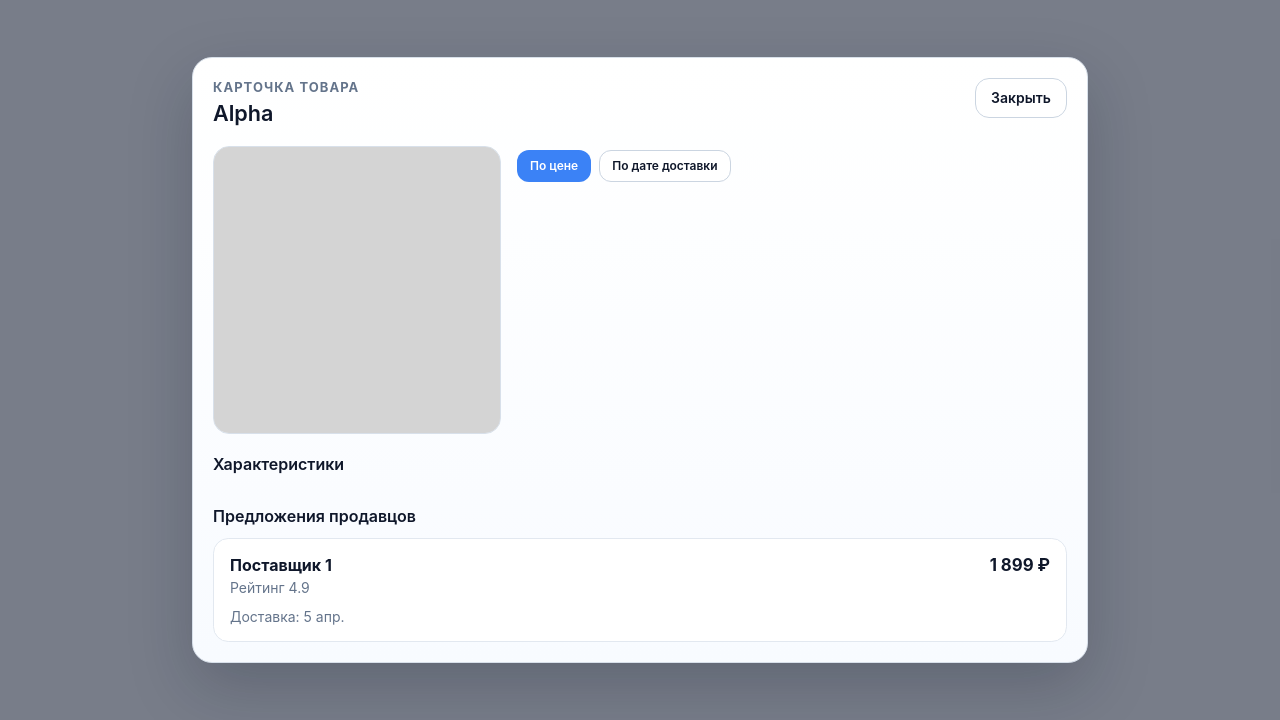
Test case: ProductModal › re-fetches on sort changes
The width and height of the screenshot is (1280, 720).
Click the button "По дате доставки": (665, 166) [599,150,730,182]
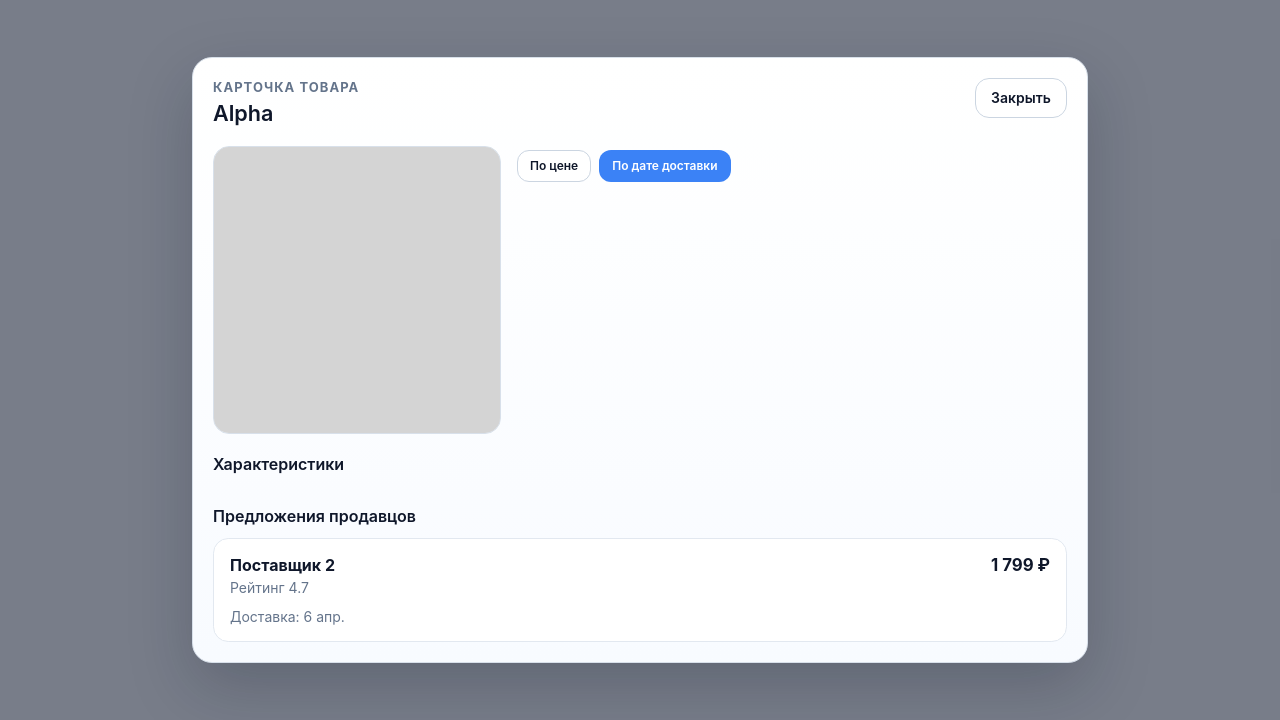
Expected: the text "Поставщик 2" is shown, [230,553,335,577]
